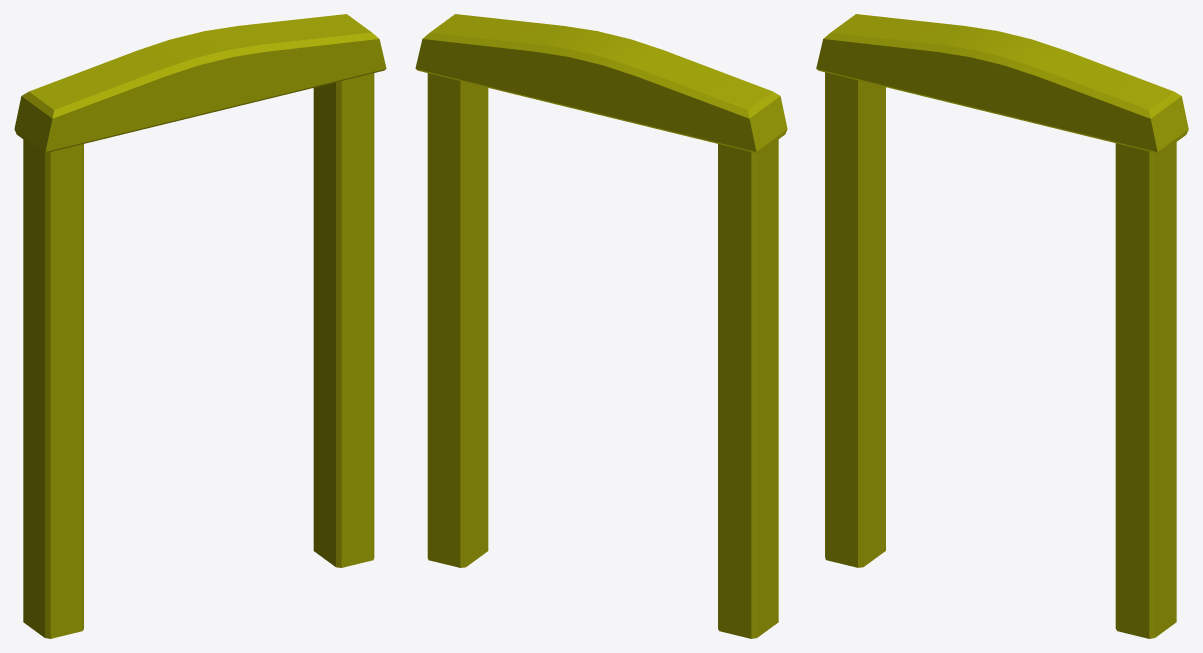
The model's file is SM_DoorFrameFantasy02.fbx.
3 renders of one model, left to right at view 1: azimuth 30°, elevation 25°; view 2: azimuth 150°, elevation 25°; view 3: azimuth 330°, elevation 25°, orthographic.
Visible parts, largest first — view 1: SM_MainDoorFrameFantasy02; view 2: SM_MainDoorFrameFantasy02; view 3: SM_MainDoorFrameFantasy02.
Part boxes in pixels (left/top/right/bottom): SM_MainDoorFrameFantasy02: left=14, top=14, right=386, bottom=638; SM_MainDoorFrameFantasy02: left=415, top=14, right=787, bottom=638; SM_MainDoorFrameFantasy02: left=816, top=14, right=1188, bottom=638.
Size of the model in its own units: 176 by 269 by 27.77.
